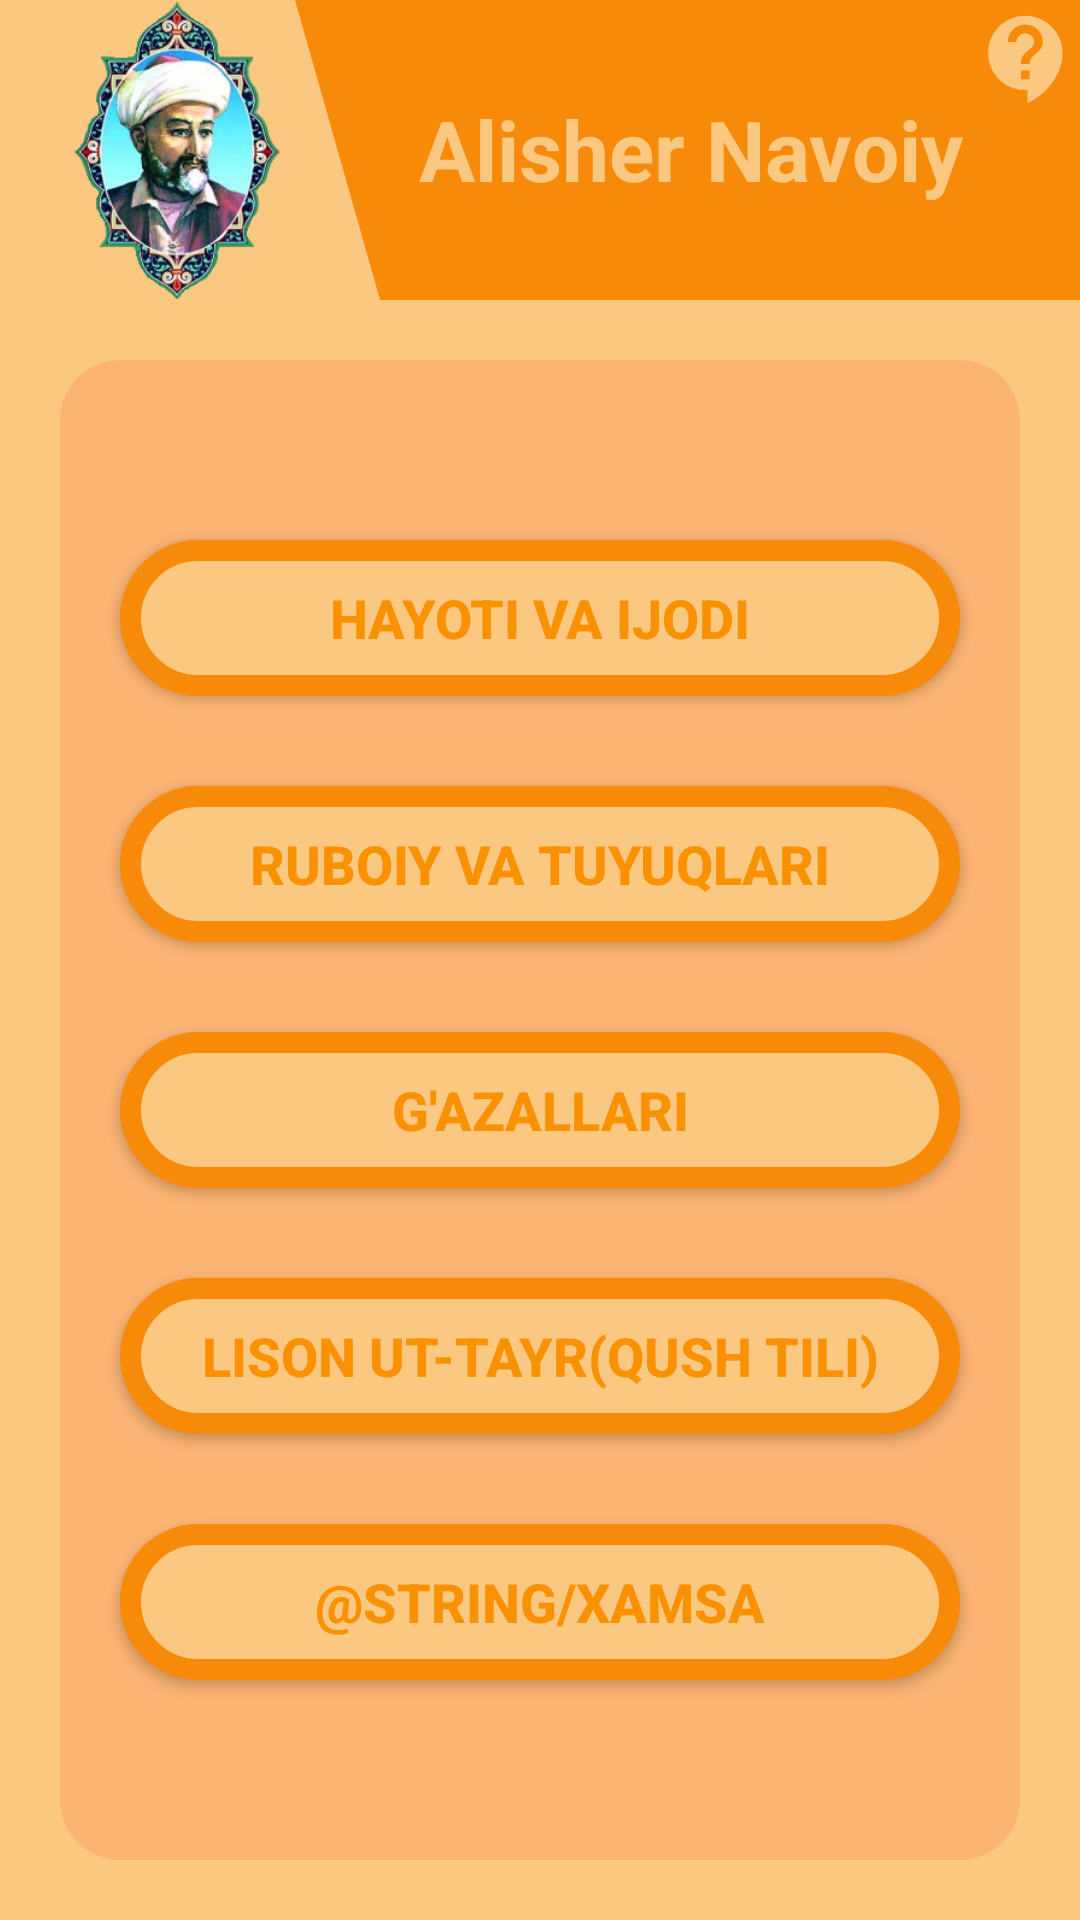

Screen size 1080x1920. Icon name, then its center in pixels as (x=x, y=y):
soroq: (x=1025, y=59)
